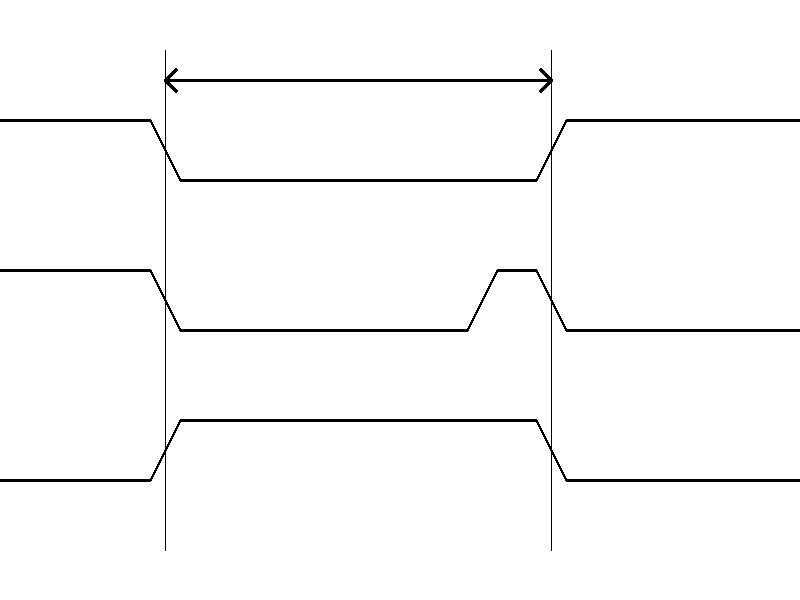double_arrow: (165, 65, 551, 95)
